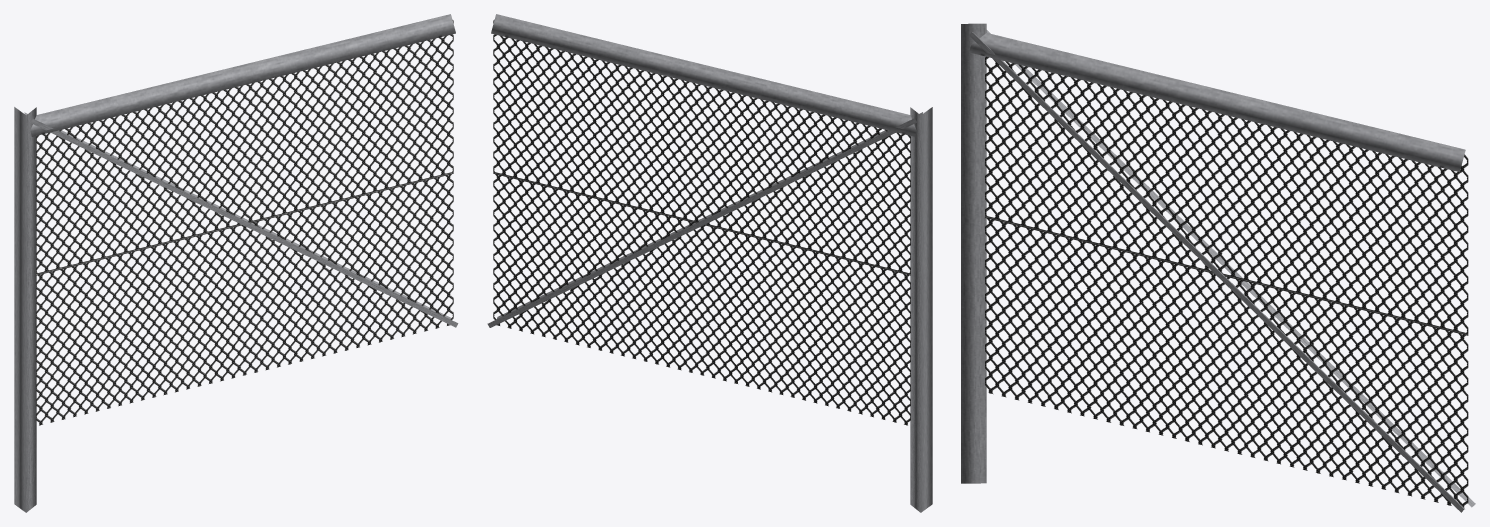
The model's file is fence-tall-chainlink-end-cbj_LOD02.gltf.
3 views of the same model, side by side, from view 1: azimuth 30°, elevation 25°; view 2: azimuth 150°, elevation 25°; view 3: azimuth 330°, elevation 25° (orthographic). The views are drawn at different scales.
Visible parts, largest first — view 1: Cube02; view 2: Cube02; view 3: Cube02.
Part boxes in pixels (x1,y1,x2,y2): Cube02: [14, 14, 458, 512]; Cube02: [487, 14, 932, 512]; Cube02: [961, 23, 1475, 512].
Size of what is drawn, in the model's own units: 2.67 by 2.33 by 0.1248.
